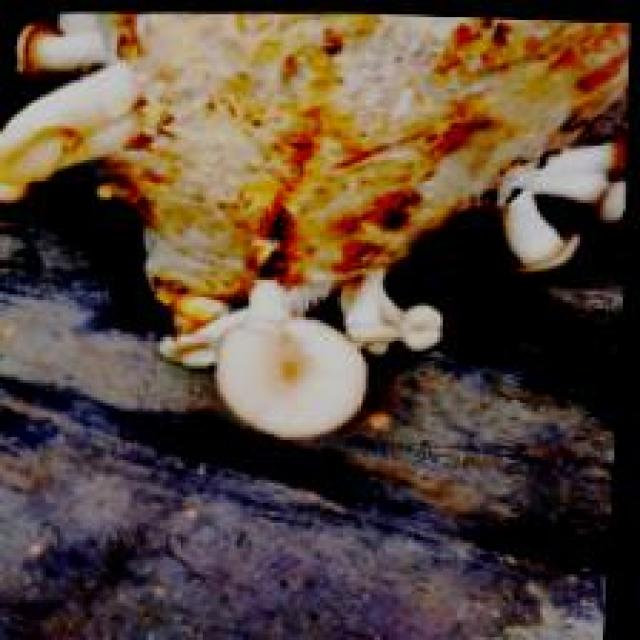chanterelle: (0, 9, 629, 437)
